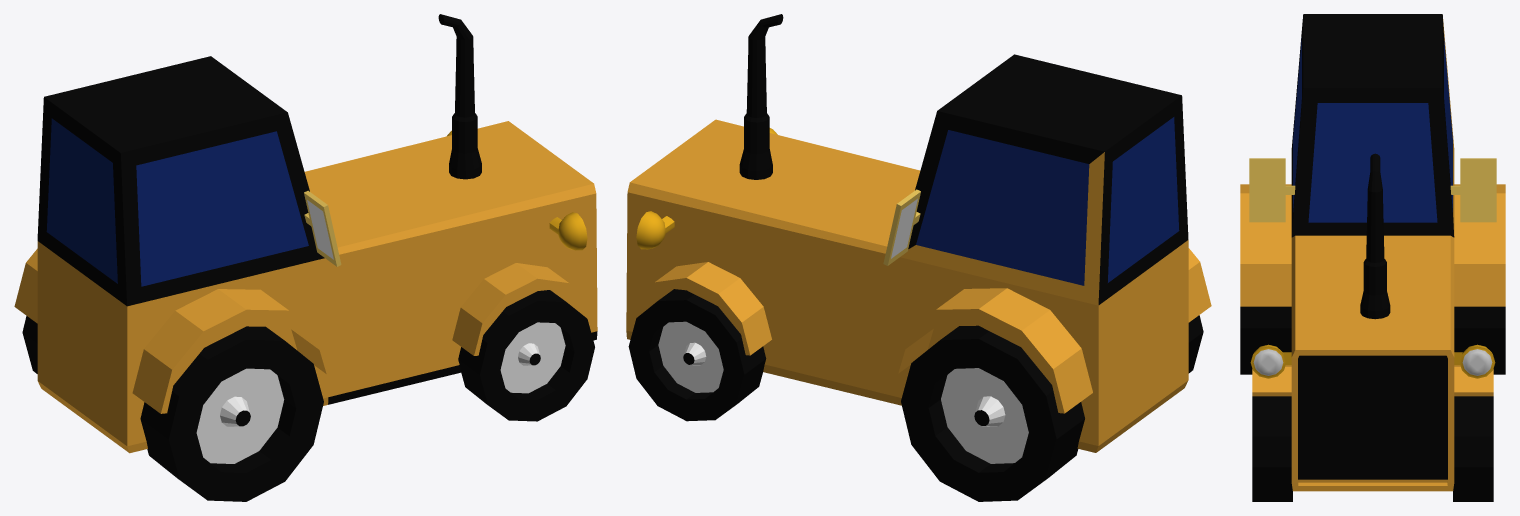
File: low_poly_tractor.glb
3 renders of one model, left to right at view 1: azimuth 30°, elevation 25°; view 2: azimuth 150°, elevation 25°; view 3: azimuth 270°, elevation 25°, orthographic. The views are drawn at different scales.
Visible parts, largest first — view 1: Cube_0, Cylinder_3, Circle.001_5, Plane_6, Sphere_7; view 2: Cube_0, Cylinder_3, Circle.001_5, Plane_6, Sphere_7; view 3: Cube_0, Cylinder_3, Plane_6, Circle.001_5, Sphere_7.
Part boxes in pixels (x1,y1,x2,y2): Cube_0: (37, 56, 597, 453); Cylinder_3: (14, 248, 594, 501); Circle.001_5: (438, 14, 481, 179); Plane_6: (304, 190, 341, 266); Sphere_7: (447, 130, 587, 250); Cube_0: (626, 54, 1188, 452); Cylinder_3: (628, 248, 1211, 501); Circle.001_5: (739, 14, 783, 179); Plane_6: (883, 189, 920, 265); Sphere_7: (636, 128, 777, 249); Cube_0: (1291, 14, 1454, 491); Cylinder_3: (1240, 184, 1505, 501); Plane_6: (1249, 158, 1496, 222); Circle.001_5: (1360, 153, 1390, 319); Sphere_7: (1250, 344, 1495, 378).
Bounding box in the file's own units: 6.06 × 4.52 × 3.27.
